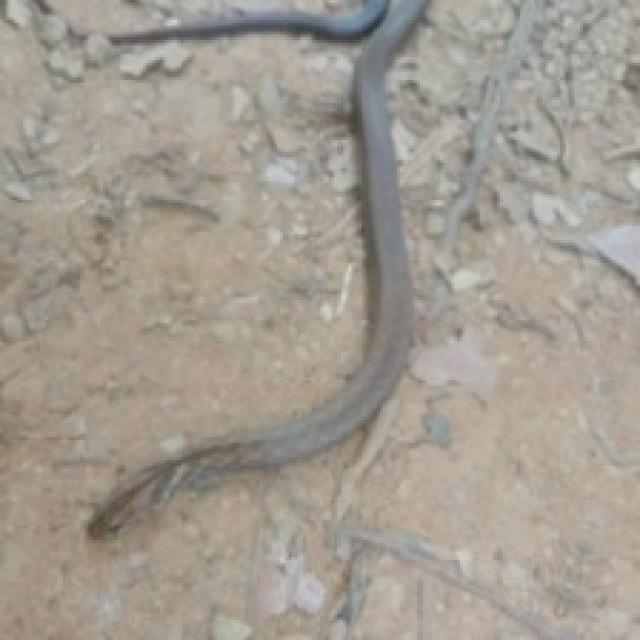reinhardts lined snake: (89, 0, 426, 534)
